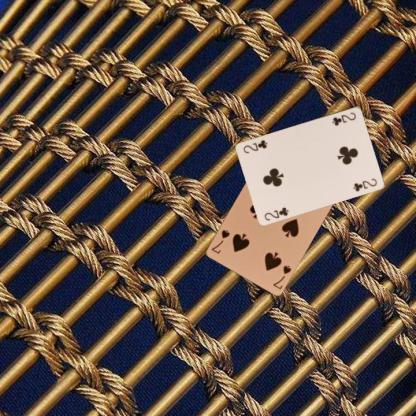2c: (330, 109, 357, 127), (262, 204, 290, 221)
7s: (270, 262, 292, 291)
